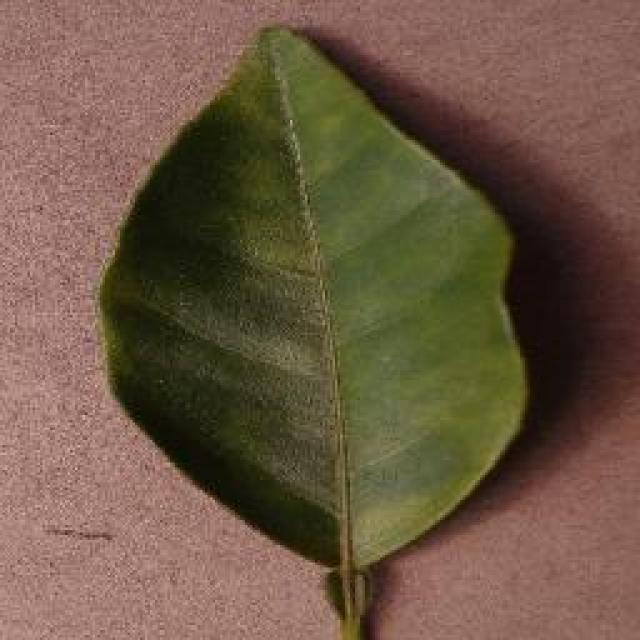Orange_Haunglongbing_Citrus_greening: (150, 89, 505, 529)
